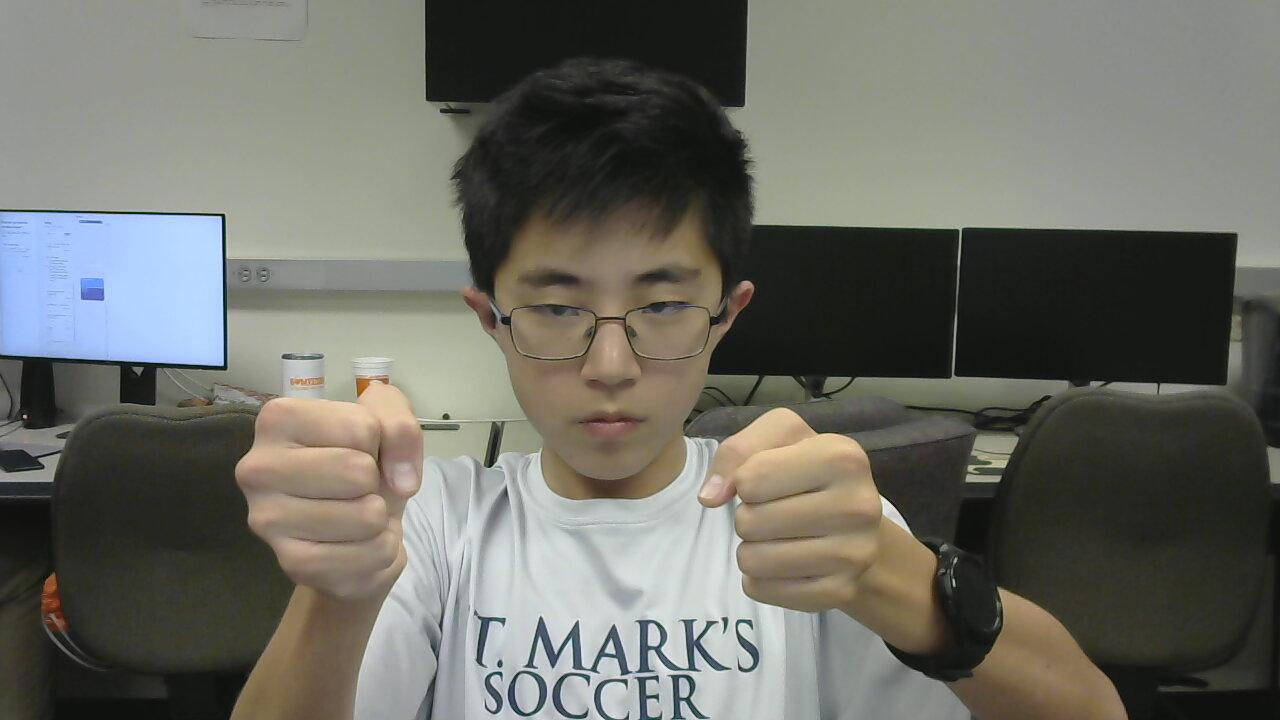fist: (246, 352, 436, 618), (696, 399, 895, 636)
